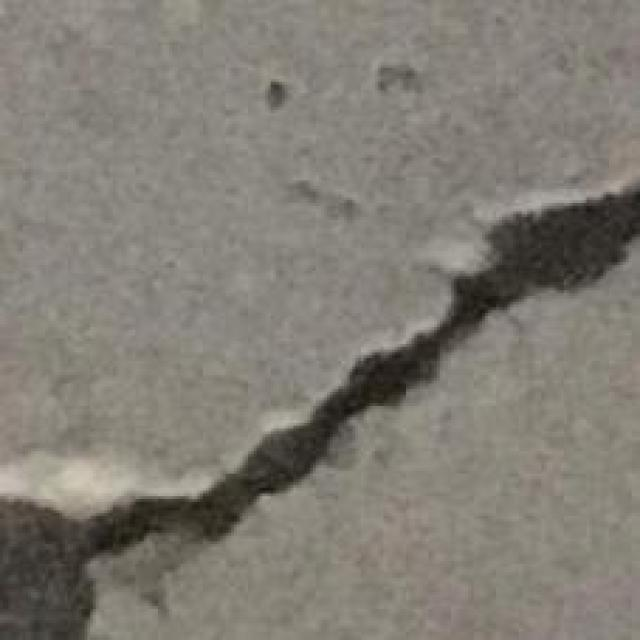Crack: (3, 183, 640, 640)
